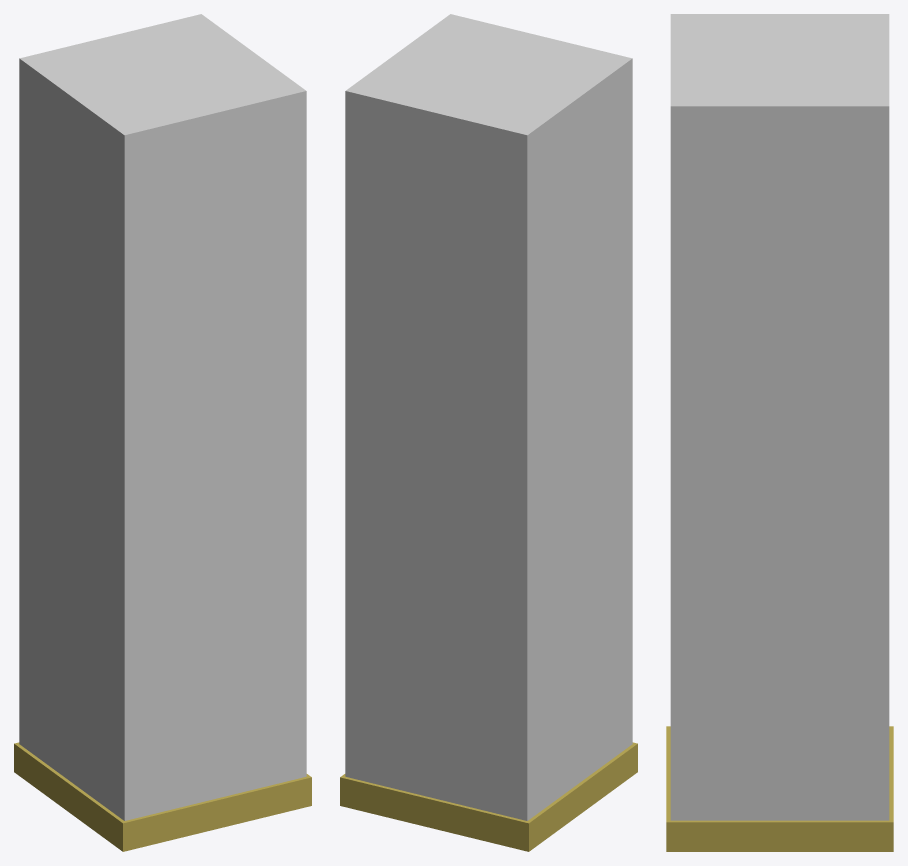
The model's file is MOD_21_Pillar_Square.glb.
The picture shows the model from 3 angles, left to right: view 1: azimuth 30°, elevation 25°; view 2: azimuth 150°, elevation 25°; view 3: azimuth 270°, elevation 25°; orthographic projection. The views are drawn at different scales.
Visible parts, largest first — view 1: MOD_21_Pillar_Square; view 2: MOD_21_Pillar_Square; view 3: MOD_21_Pillar_Square.
Part boxes in pixels (<box>): MOD_21_Pillar_Square: <box>14,14,311,851</box>; MOD_21_Pillar_Square: <box>340,14,637,851</box>; MOD_21_Pillar_Square: <box>666,14,893,851</box>.
Size of the model in its own units: 0.83 by 3 by 0.83.
